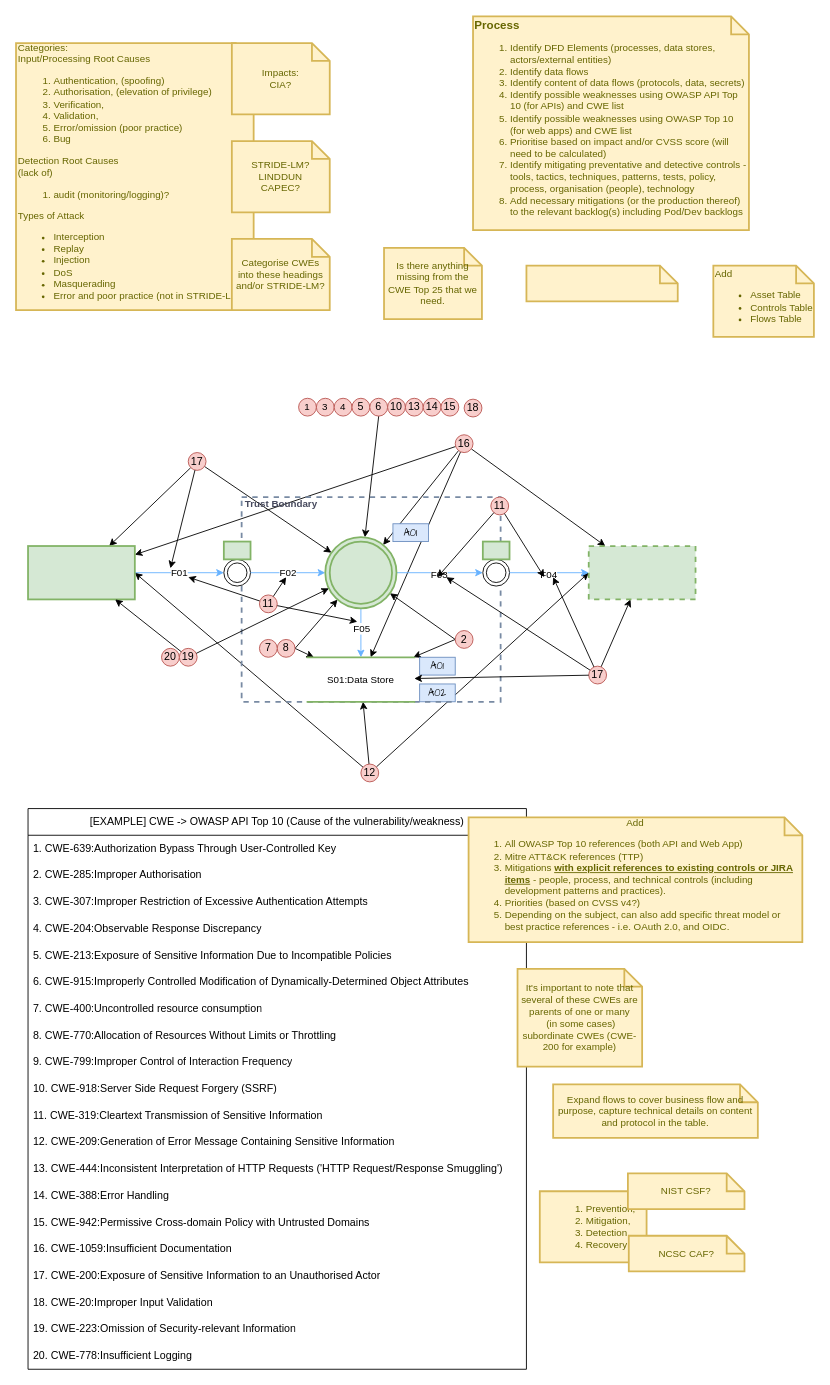
The diagram is 830 pixels wide and 1385 high, and some of its shapes have lost their labels. Each missing label, with the centre of its shape:
C01: the point at 236,550
C02: the point at 495,550
E01:Client: the point at 81,572
E02:External Resource: the point at 641,572
Identify standard list of threat source and agents: the point at 601,283
P01:API: the point at 360,572
